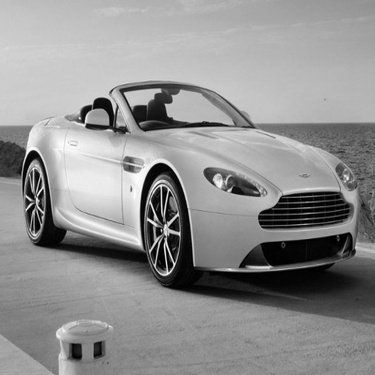car: (11, 74, 368, 293)
